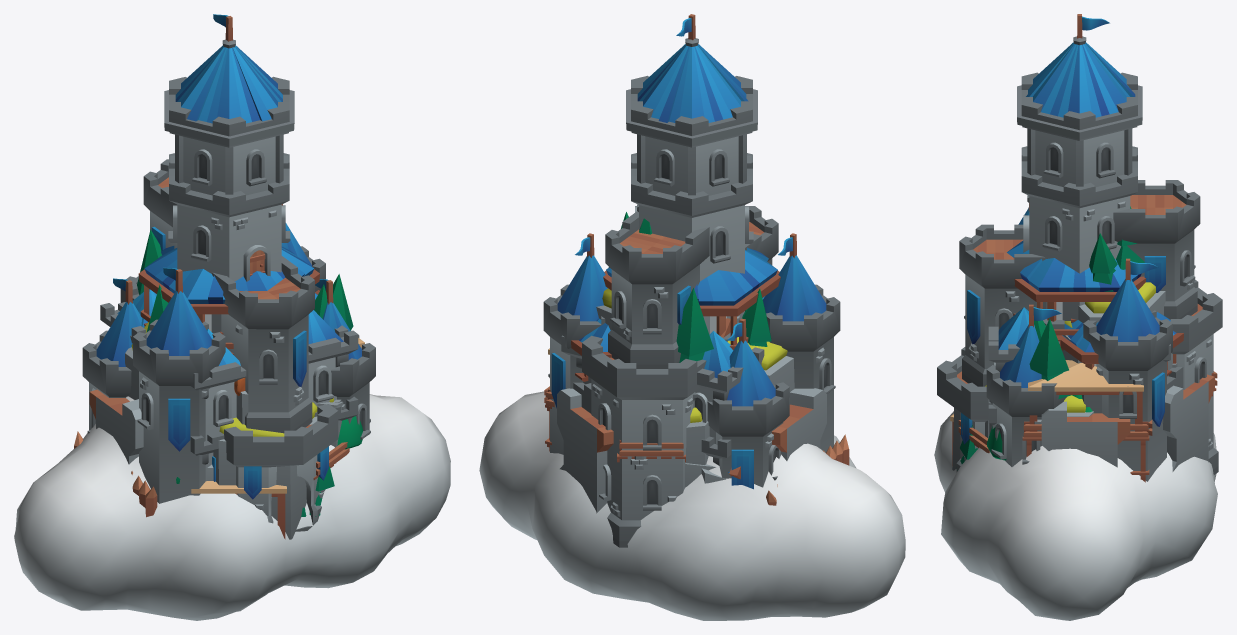
The model's file is kit.glb.
3 renders of one model, left to right at view 1: azimuth 30°, elevation 25°; view 2: azimuth 150°, elevation 25°; view 3: azimuth 270°, elevation 25°, orthographic. The views are drawn at different scales.
Visible parts, largest first — view 1: building_castle_blue, cloud_big, building_barracks_blue, building_tower_B_top_blue, mountain_C_grass, wall_corner_A_outside, mountain_A_grass_trees, building_scaffolding, fence_wood_straight, trees_B_large; view 2: building_castle_blue, cloud_big, wall_corner_A_outside, building_tower_B_top_blue, building_barracks_blue, mountain_A_grass_trees, mountain_C_grass, building_scaffolding, building_archeryrange_blue, mountain_B_grass_trees; view 3: building_castle_blue, cloud_big, building_tower_B_top_blue, building_scaffolding, wall_corner_A_outside, wall_straight, mountain_B_grass_trees, building_archeryrange_blue, building_barracks_blue, mountain_A_grass_trees, mountain_C_grass.
Boxes of the visible parts, x1,y1,x2,y2 form: building_castle_blue: (82,14,375,531); cloud_big: (14,394,450,620); building_barracks_blue: (100,289,358,481); building_tower_B_top_blue: (138,245,319,354); mountain_C_grass: (125,322,340,539); wall_corner_A_outside: (89,389,139,464); mountain_A_grass_trees: (137,229,353,447); building_scaffolding: (191,338,364,539); fence_wood_straight: (74,431,157,517); trees_B_large: (176,416,362,483); building_castle_blue: (543,14,840,547); cloud_big: (479,391,905,620); wall_corner_A_outside: (557,388,826,513); building_tower_B_top_blue: (603,247,780,350); building_barracks_blue: (561,296,764,465); mountain_A_grass_trees: (608,267,771,488); mountain_C_grass: (686,337,794,465); building_scaffolding: (544,348,685,462); building_archeryrange_blue: (571,318,740,479); mountain_B_grass_trees: (583,212,747,487); building_castle_blue: (937,14,1222,481); cloud_big: (934,411,1217,620); building_tower_B_top_blue: (1007,240,1146,350); building_scaffolding: (950,360,1217,482); wall_corner_A_outside: (1163,374,1214,471); wall_straight: (1041,401,1130,467); mountain_B_grass_trees: (1034,206,1172,416); building_archeryrange_blue: (1056,312,1183,413); building_barracks_blue: (988,307,1170,424); mountain_A_grass_trees: (989,318,1071,404); mountain_C_grass: (952,385,992,470).
Size of the model in its own units: 3.61 by 4.89 by 2.28.
1 material, 1 textured.
